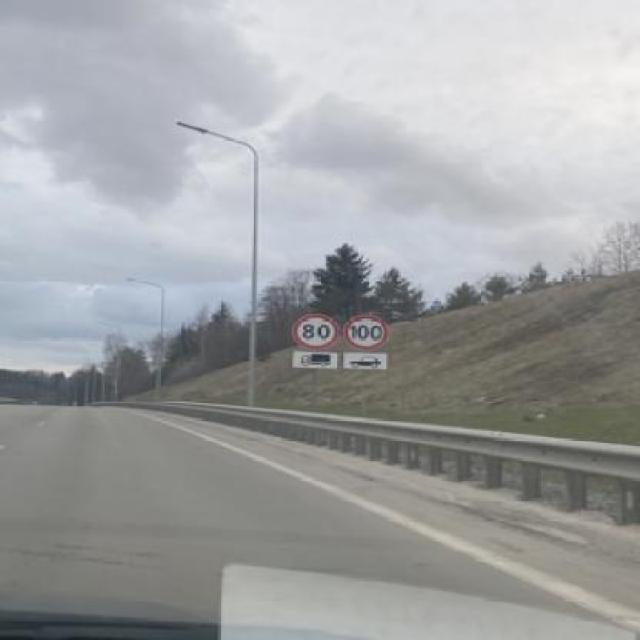forb_speed_over_100: (345, 313, 387, 350)
forb_speed_over_80: (296, 312, 339, 350)
